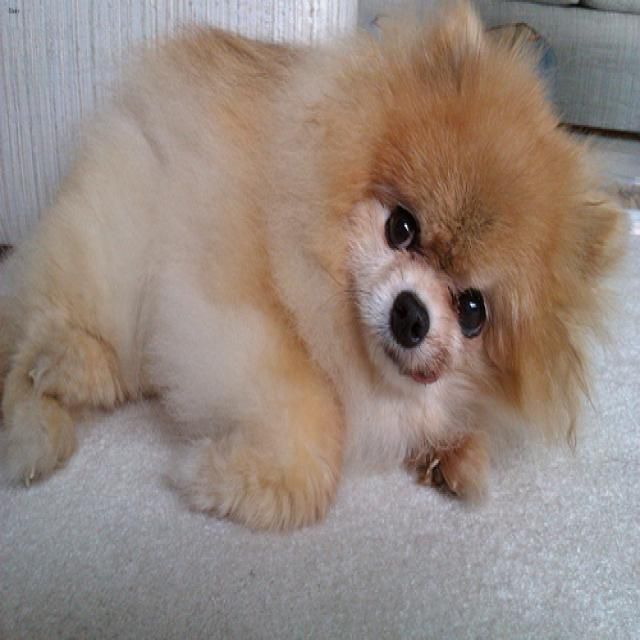dog-pomeranian: (1, 2, 636, 534)
